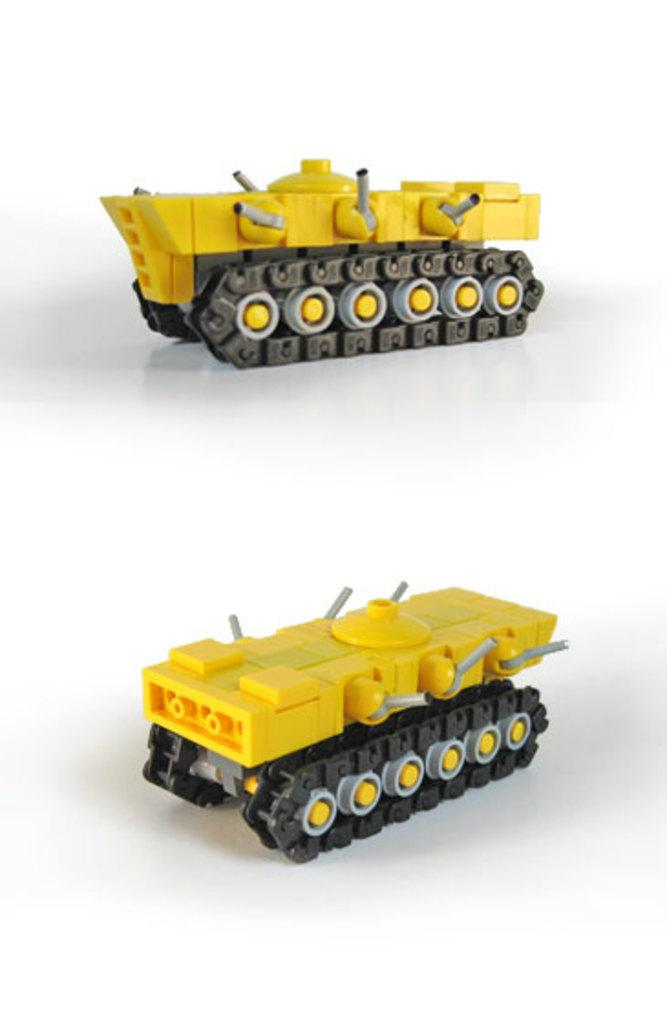Tank: (139, 581, 568, 865), (97, 157, 546, 368)
